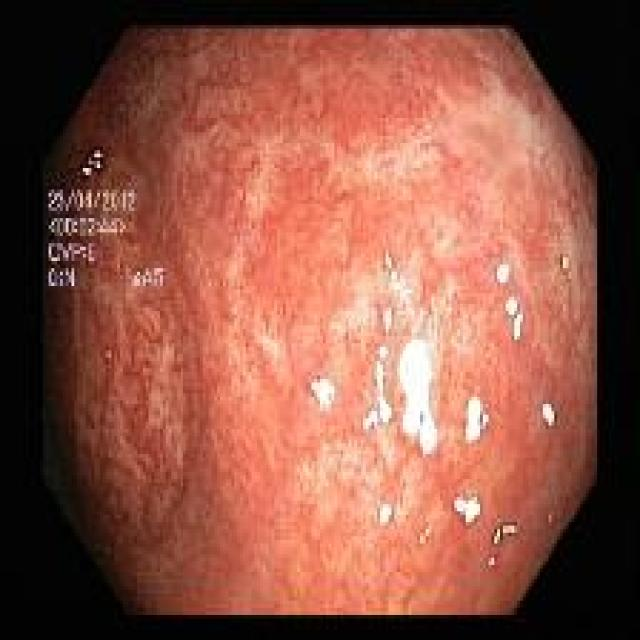ulcerative-colitis: (44, 28, 596, 615)
